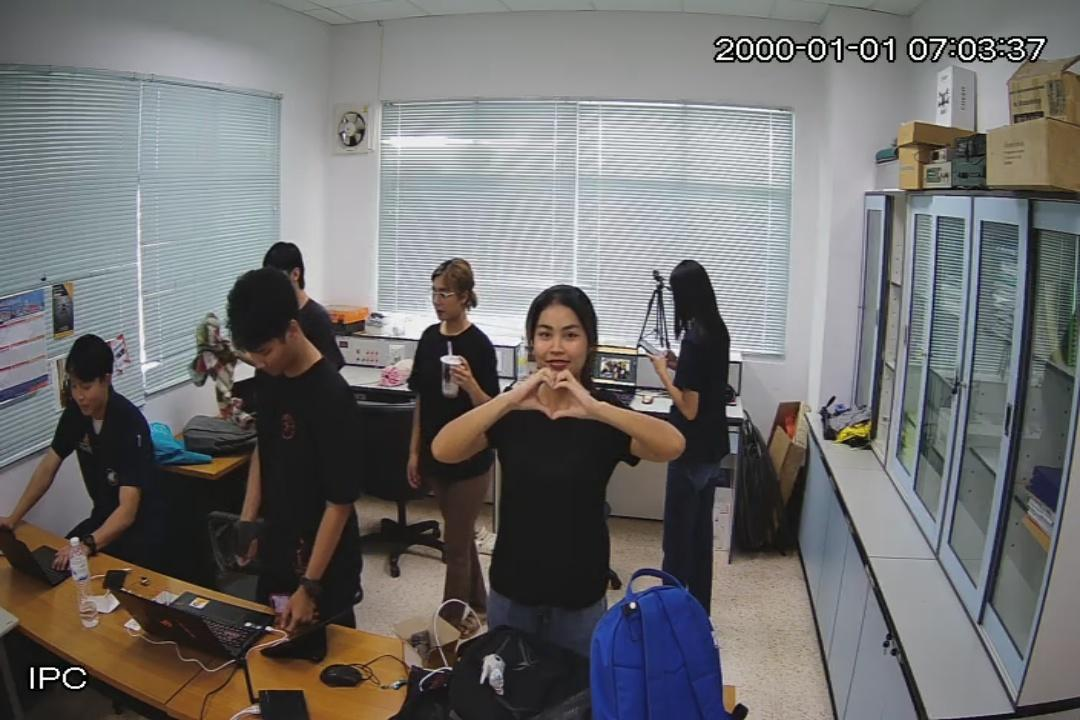normal: (432, 286, 686, 698), (214, 260, 388, 646), (0, 330, 178, 570), (650, 246, 750, 644), (408, 246, 502, 644)
